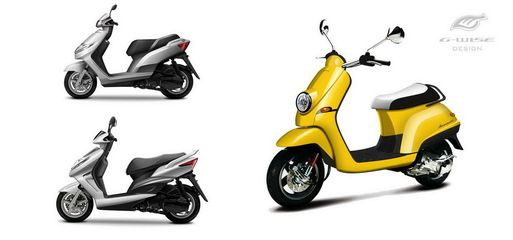non-vehicle: (269, 16, 464, 205), (53, 119, 206, 225), (56, 8, 198, 102)
